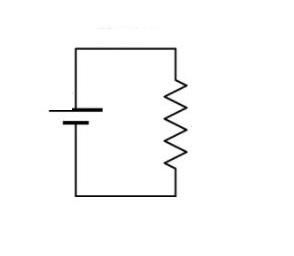resistor: (144, 62, 203, 193)
